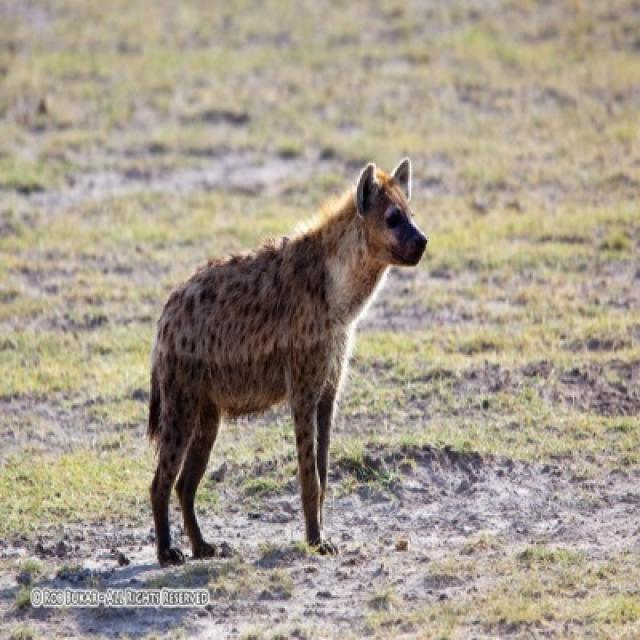hyena: (146, 162, 429, 568)
